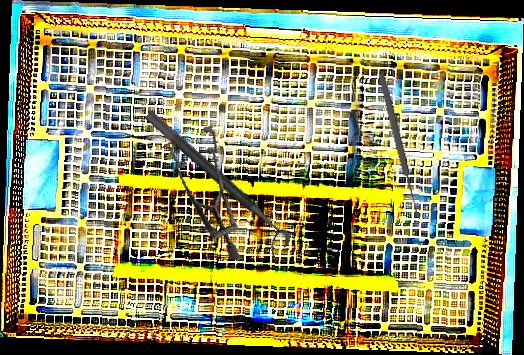Fixation Ring: (132, 108, 295, 260)
Speculum: (142, 117, 268, 262)
Surgical Spoon: (376, 72, 422, 219)
